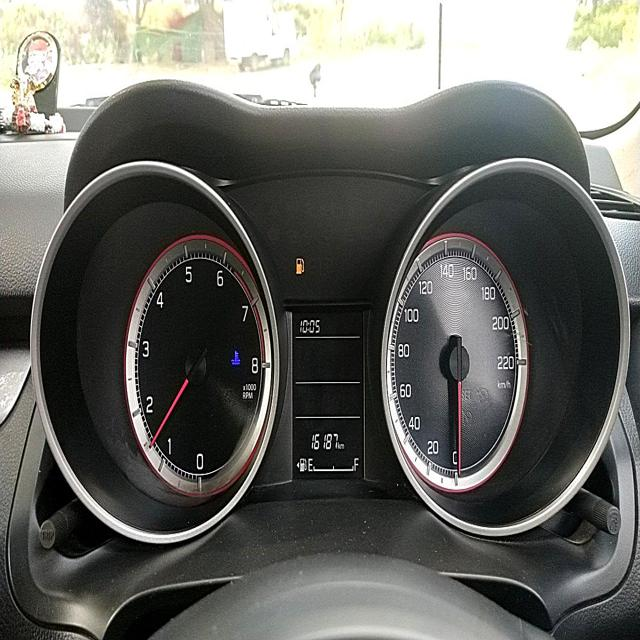odometer: (310, 429, 339, 454)
